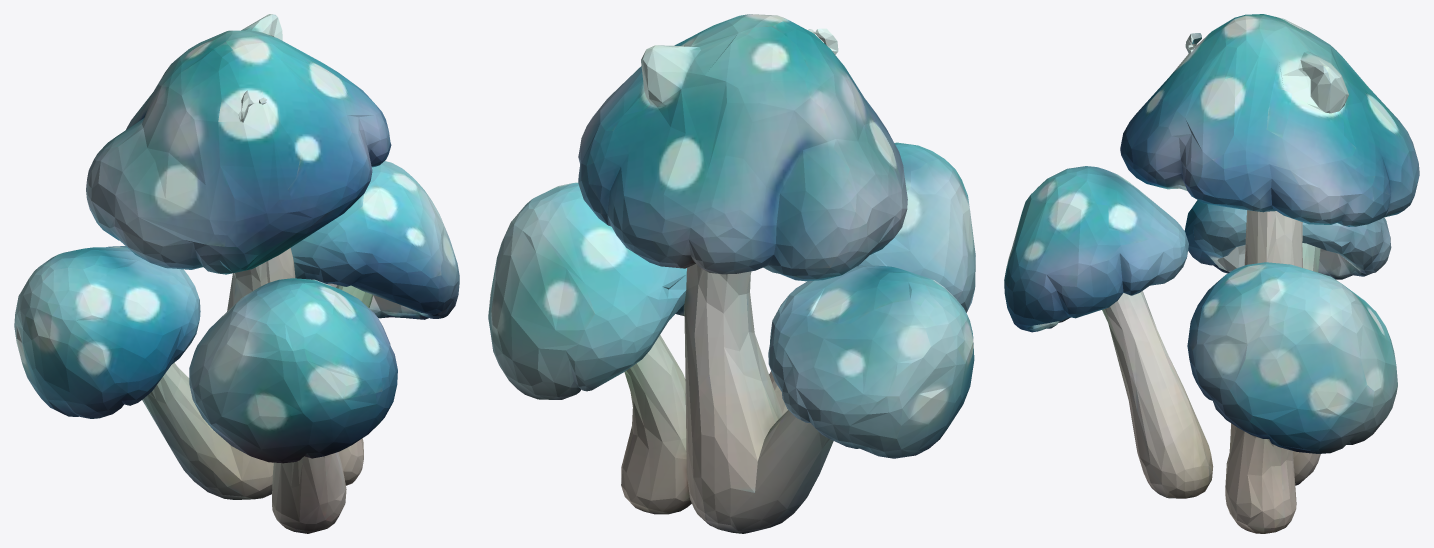
The model's file is mushroom.glb.
3 renders of one model, left to right at view 1: azimuth 30°, elevation 25°; view 2: azimuth 150°, elevation 25°; view 3: azimuth 270°, elevation 25°, orthographic. The views are drawn at different scales.
Parts seen in each view (by area): view 1: geometry_0; view 2: geometry_0; view 3: geometry_0.
Part boxes in pixels (box(x1,y1,x2,y2)): geometry_0: box(14, 14, 459, 533); geometry_0: box(488, 14, 975, 533); geometry_0: box(1004, 14, 1419, 533).
Bounding box in the file's own units: 0.6647 × 0.716 × 0.5815.
1 material, 1 textured.
